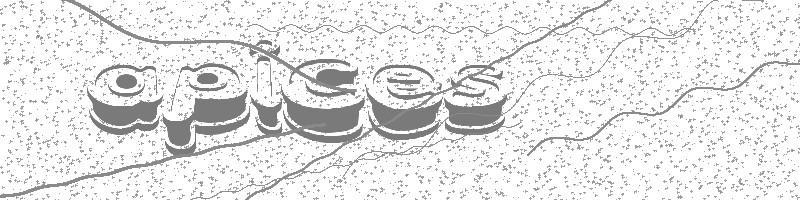a: (86, 63, 162, 136)
c: (279, 58, 364, 144)
e: (365, 63, 442, 141)
i: (247, 38, 286, 138)
p: (161, 62, 251, 157)
s: (441, 64, 506, 137)
